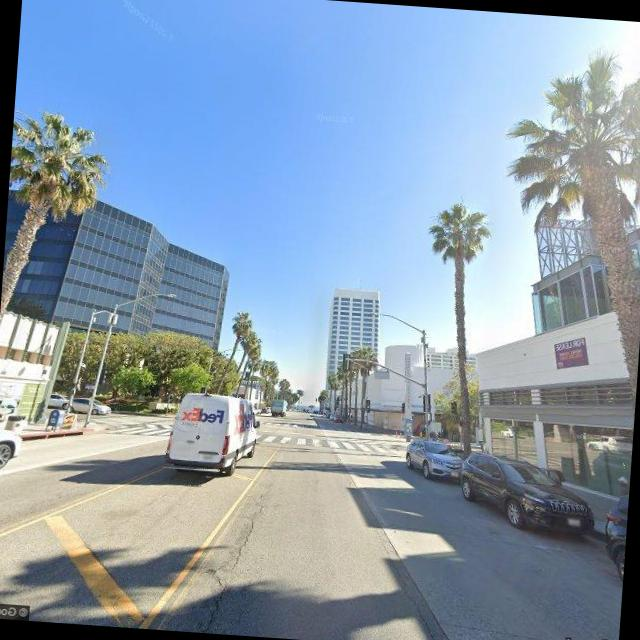pothole: (188, 482, 268, 636)
